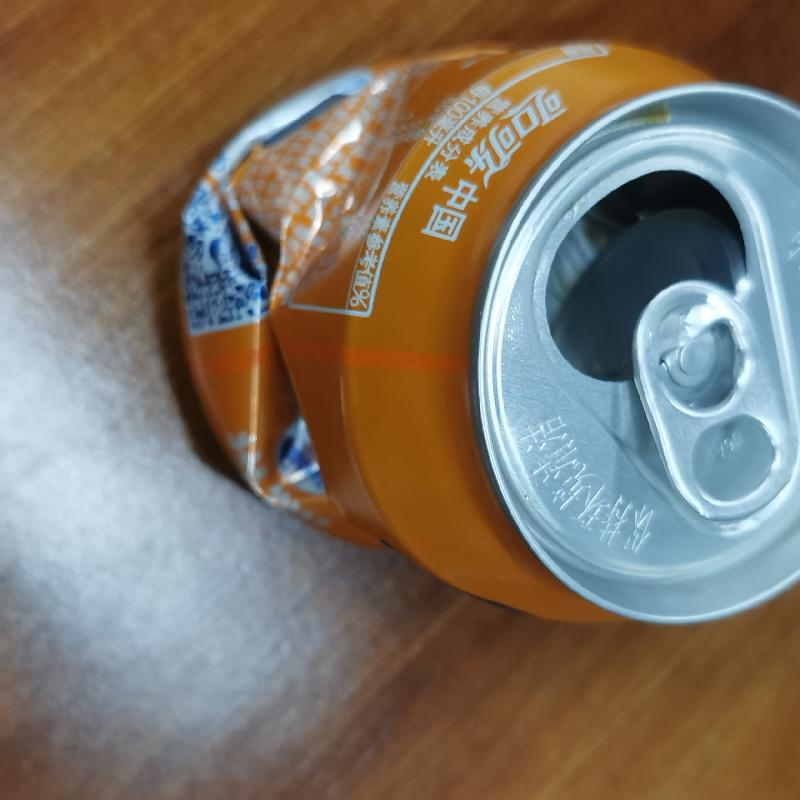cans: (184, 40, 799, 628)
